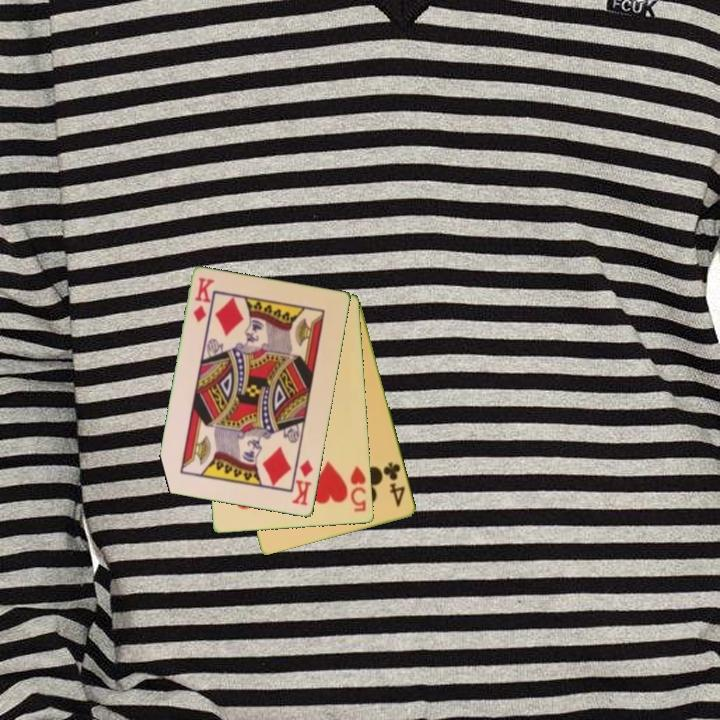4c: (380, 459, 408, 510)
5h: (347, 463, 369, 515)
Kd: (288, 457, 316, 509), (190, 274, 217, 326)
